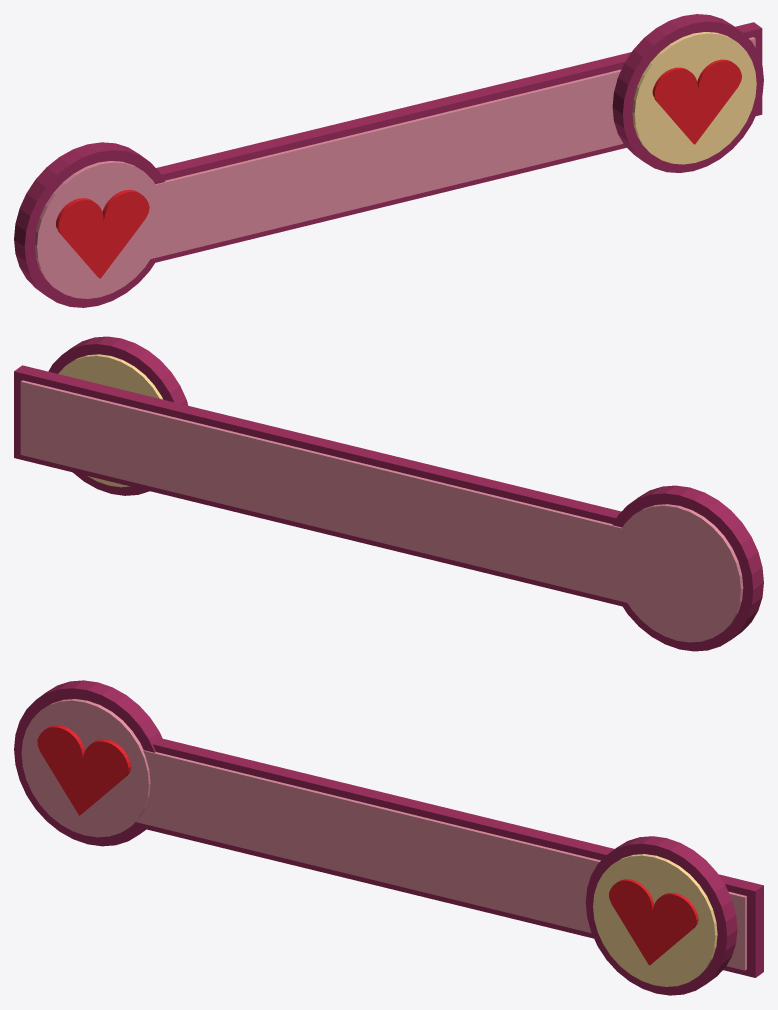
Rendered from gameAssets.glb.
3 renders of one model, top to bottom at view 1: azimuth 30°, elevation 25°; view 2: azimuth 150°, elevation 25°; view 3: azimuth 330°, elevation 25°, orthographic.
Parts seen in each view (by area): view 1: bar, icon; view 2: bar, icon; view 3: bar, icon.
Part boxes in pixels (<box>): bar: <box>14,22,762,307</box>; icon: <box>612,14,763,172</box>; bar: <box>14,365,763,651</box>; icon: <box>48,336,188,495</box>; bar: <box>14,680,763,977</box>; icon: <box>585,836,737,995</box>.
Size of the model in its own units: 7.15 by 1.42 by 0.5227.
